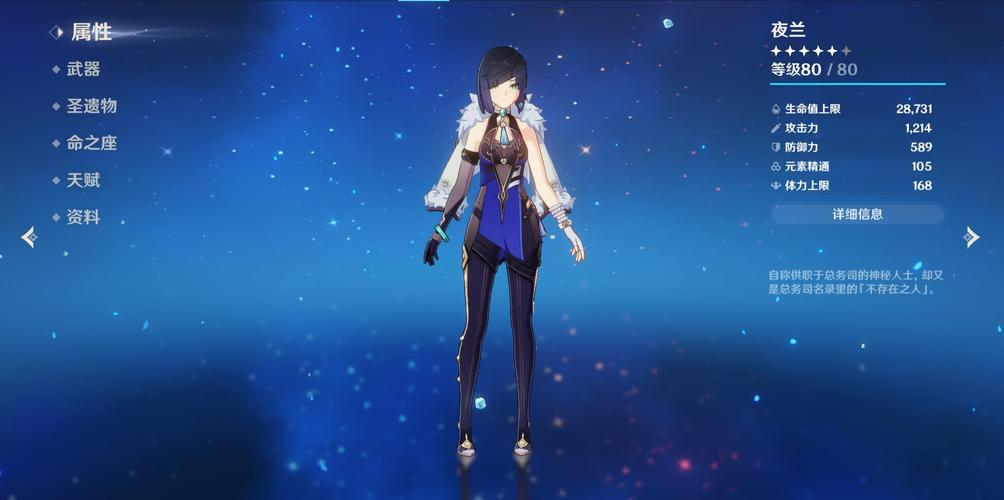夜兰: (421, 44, 589, 471)
